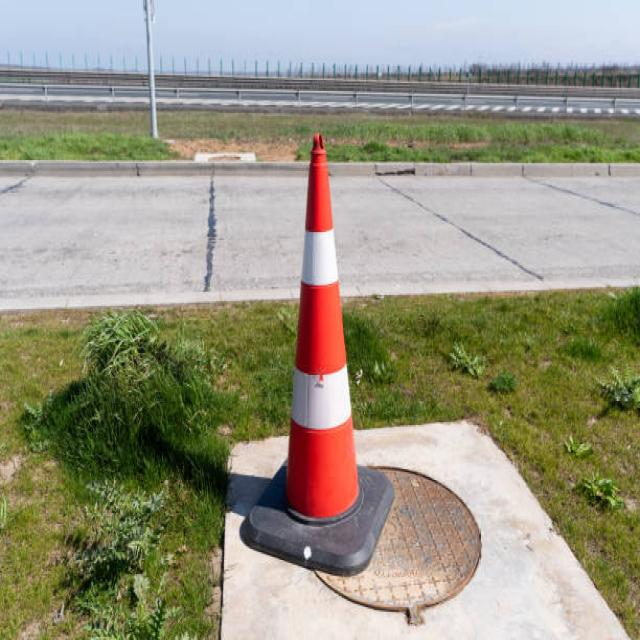Traffic Cone: (201, 83, 435, 600)
